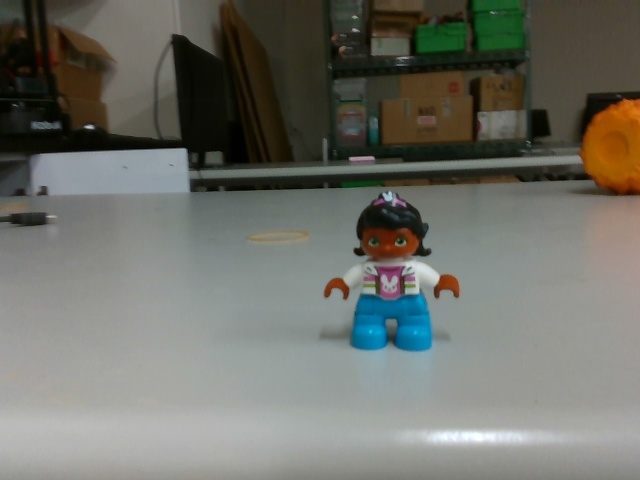people: (321, 192, 464, 354)
